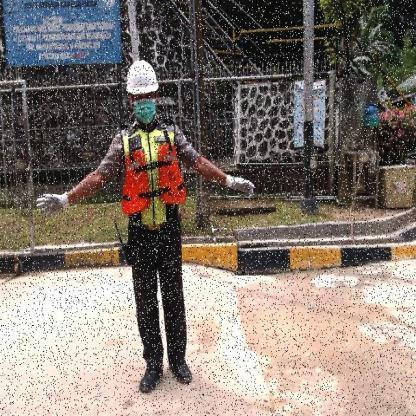boots: (165, 352, 194, 386), (138, 359, 164, 396)
gloves: (34, 189, 70, 220), (225, 174, 257, 202)
helmet: (124, 57, 160, 92)
mask: (134, 100, 157, 124)
vest: (119, 142, 186, 215)
